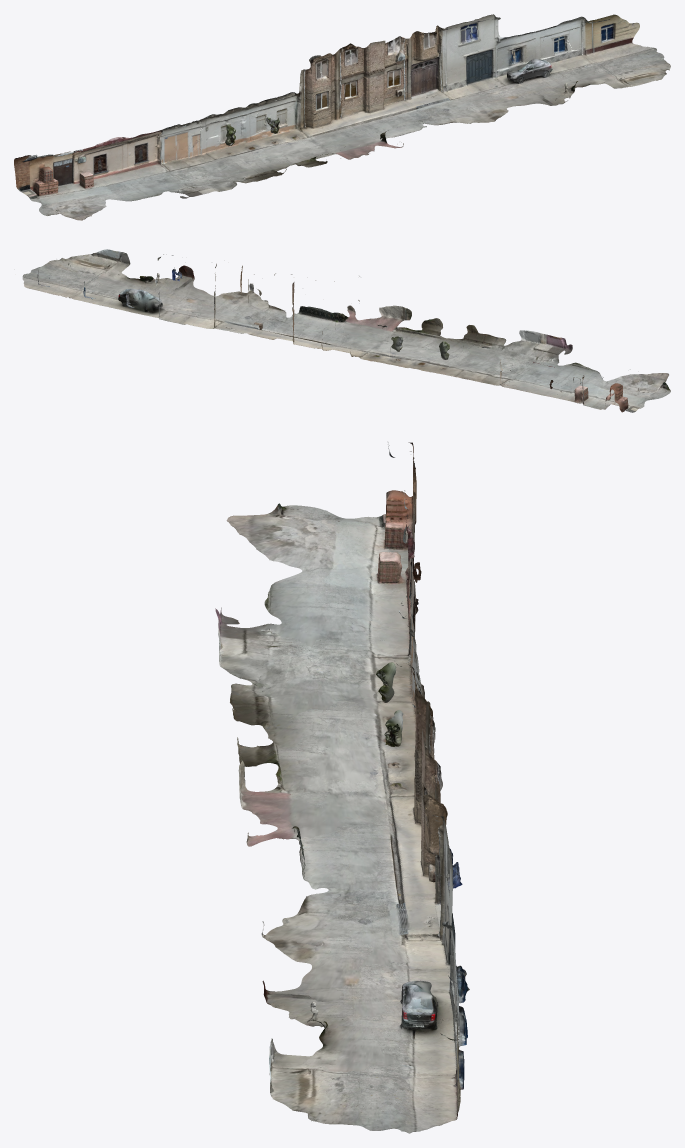
File: angren-3.glb
3 renders of one model, top to bottom at view 1: azimuth 30°, elevation 25°; view 2: azimuth 150°, elevation 25°; view 3: azimuth 270°, elevation 25°, orthographic. The views are drawn at different scales.
Bounding box in the file's own units: 67.32 × 8.18 × 12.02.
Materials: 1 (1 with a texture image).
